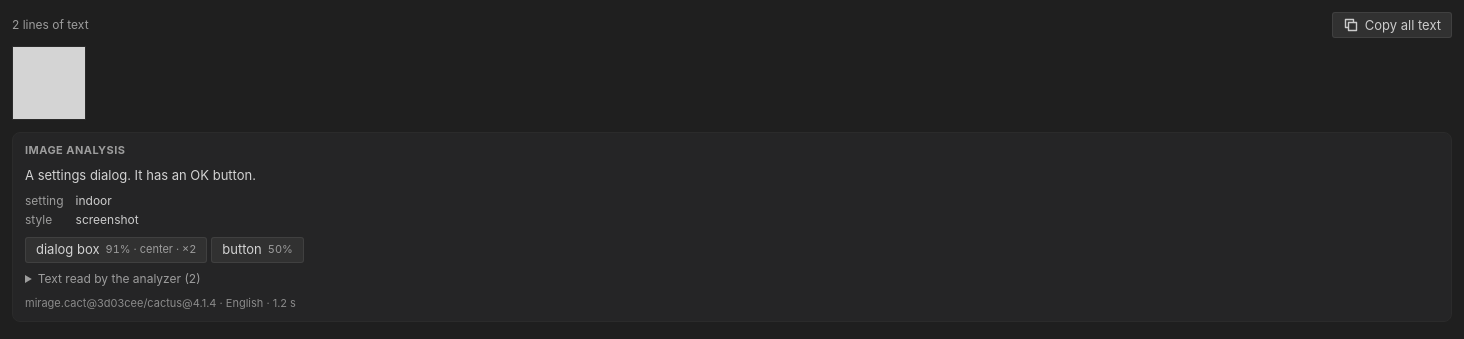
Test: ScreenshotPreview › drops the selection and ignores late answers when the clip changes
Later steps or results of the test are not shown.
Step 1. Click the button "button 50%" → coordinates (258, 250), box 211,237 -> 304,263
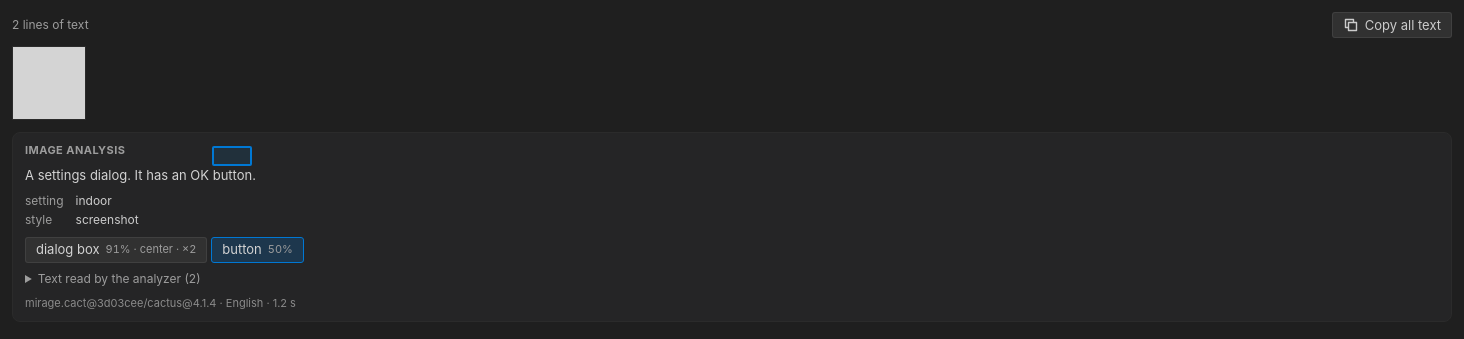
Expected: the element with test id "screenshot-highlight" is shown, 212,146 -> 252,166
